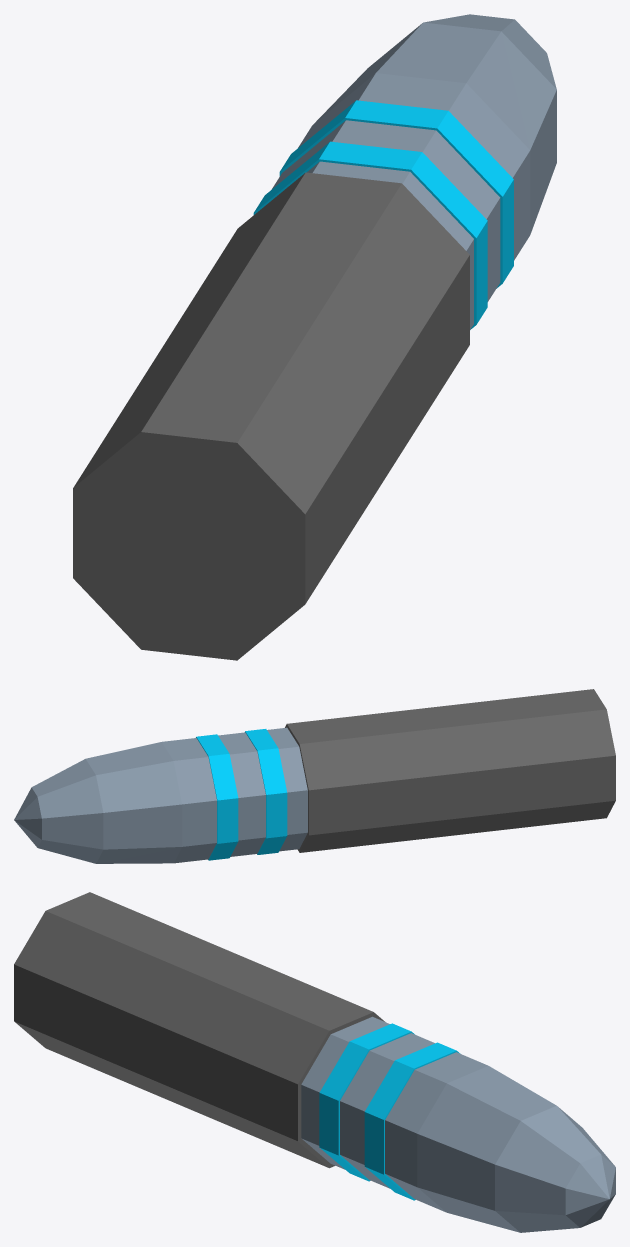
The model's file is ce_ammo2_rcl84_emp_a.obj.
3 views of the same model, one above another, from view 1: azimuth 30°, elevation 25°; view 2: azimuth 150°, elevation 25°; view 3: azimuth 270°, elevation 25° (orthographic). The views are drawn at different scales.
Parts seen in each view (by area): view 1: ce_ammo2_rcl84_emp_a_0, ce_ammo2_rcl84_emp_a_6, ce_ammo2_rcl84_emp_a_5, ce_ammo2_rcl84_emp_a_3, ce_ammo2_rcl84_emp_a_4, ce_ammo2_rcl84_emp_a_2, ce_ammo2_rcl84_emp_a_1, ce_ammo2_rcl84_emp_a_7; view 2: ce_ammo2_rcl84_emp_a_0, ce_ammo2_rcl84_emp_a_6, ce_ammo2_rcl84_emp_a_7, ce_ammo2_rcl84_emp_a_5, ce_ammo2_rcl84_emp_a_3, ce_ammo2_rcl84_emp_a_4, ce_ammo2_rcl84_emp_a_2, ce_ammo2_rcl84_emp_a_1, ce_ammo2_rcl84_emp_a_8; view 3: ce_ammo2_rcl84_emp_a_0, ce_ammo2_rcl84_emp_a_6, ce_ammo2_rcl84_emp_a_7, ce_ammo2_rcl84_emp_a_5, ce_ammo2_rcl84_emp_a_3, ce_ammo2_rcl84_emp_a_2, ce_ammo2_rcl84_emp_a_4, ce_ammo2_rcl84_emp_a_1, ce_ammo2_rcl84_emp_a_8.
Boxes of the visible parts, bbox=[...] form: ce_ammo2_rcl84_emp_a_0: bbox=[73, 172, 469, 660]; ce_ammo2_rcl84_emp_a_6: bbox=[313, 22, 556, 234]; ce_ammo2_rcl84_emp_a_5: bbox=[298, 73, 530, 260]; ce_ammo2_rcl84_emp_a_3: bbox=[271, 120, 500, 301]; ce_ammo2_rcl84_emp_a_4: bbox=[279, 100, 513, 288]; ce_ammo2_rcl84_emp_a_2: bbox=[253, 141, 487, 329]; ce_ammo2_rcl84_emp_a_1: bbox=[307, 161, 473, 329]; ce_ammo2_rcl84_emp_a_7: bbox=[423, 14, 556, 89]; ce_ammo2_rcl84_emp_a_0: bbox=[285, 689, 615, 852]; ce_ammo2_rcl84_emp_a_6: bbox=[86, 742, 182, 863]; ce_ammo2_rcl84_emp_a_7: bbox=[32, 759, 103, 863]; ce_ammo2_rcl84_emp_a_5: bbox=[162, 738, 216, 863]; ce_ammo2_rcl84_emp_a_3: bbox=[218, 732, 265, 856]; ce_ammo2_rcl84_emp_a_4: bbox=[196, 734, 238, 860]; ce_ammo2_rcl84_emp_a_2: bbox=[245, 729, 287, 854]; ce_ammo2_rcl84_emp_a_1: bbox=[267, 727, 307, 851]; ce_ammo2_rcl84_emp_a_8: bbox=[14, 787, 41, 847]; ce_ammo2_rcl84_emp_a_0: bbox=[14, 892, 384, 1168]; ce_ammo2_rcl84_emp_a_6: bbox=[417, 1066, 556, 1232]; ce_ammo2_rcl84_emp_a_7: bbox=[495, 1105, 614, 1232]; ce_ammo2_rcl84_emp_a_5: bbox=[385, 1052, 488, 1212]; ce_ammo2_rcl84_emp_a_3: bbox=[340, 1033, 434, 1188]; ce_ammo2_rcl84_emp_a_2: bbox=[319, 1023, 414, 1181]; ce_ammo2_rcl84_emp_a_4: bbox=[364, 1042, 460, 1200]; ce_ammo2_rcl84_emp_a_1: bbox=[301, 1016, 389, 1169]; ce_ammo2_rcl84_emp_a_8: bbox=[565, 1154, 615, 1227].
Bounding box in the file's own units: 0.6596 × 0.1662 × 0.6596.
